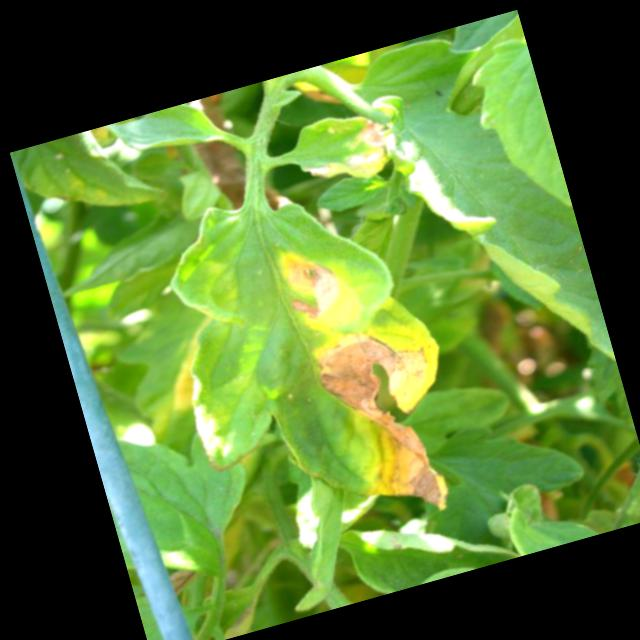Early_blight: (300, 306, 479, 534), (292, 114, 395, 196), (269, 237, 348, 328)
